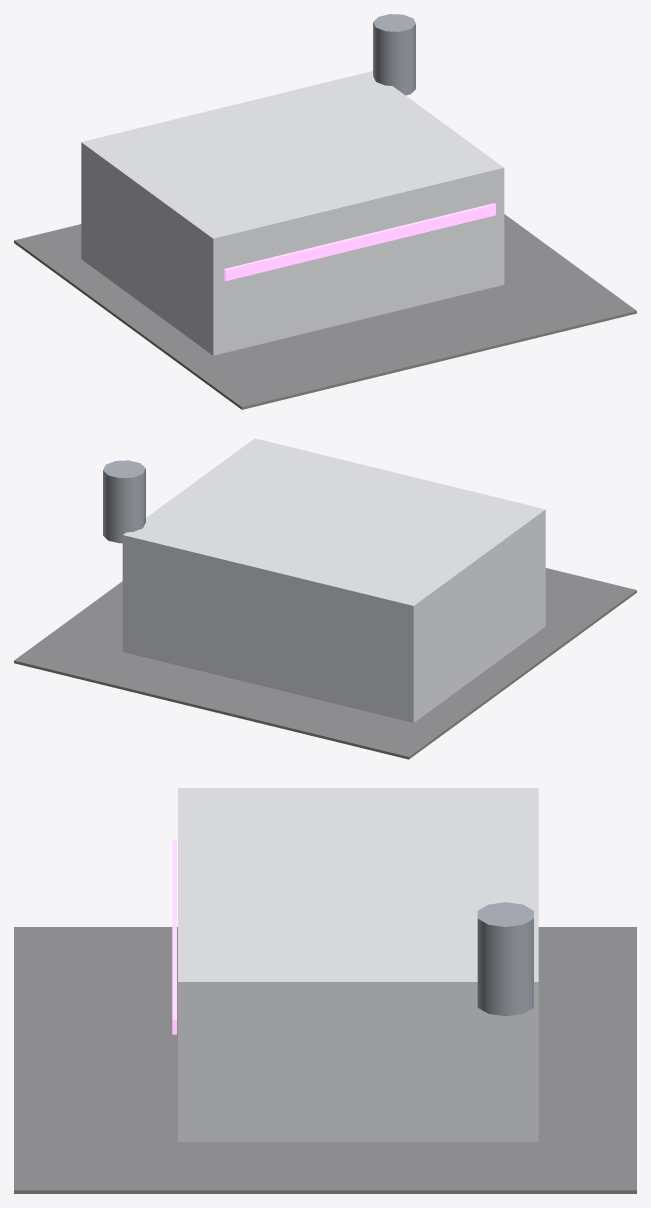
The model's file is nano_fab.glb.
3 views of the same model, one above another, from view 1: azimuth 30°, elevation 25°; view 2: azimuth 150°, elevation 25°; view 3: azimuth 270°, elevation 25° (orthographic). The views are drawn at different scales.
Parts seen in each view (by area): view 1: Clean, Pad, Band, Vent; view 2: Clean, Pad, Vent; view 3: Clean, Pad, Vent, Band.
Part boxes in pixels (x1=…): Clean: x1=81, y1=71, x2=504, y2=355; Pad: x1=14, y1=214, x2=636, y2=409; Band: x1=224, y1=203, x2=495, y2=280; Vent: x1=373, y1=14, x2=415, y2=95; Clean: x1=122, y1=438, x2=545, y2=722; Pad: x1=14, y1=568, x2=636, y2=759; Vent: x1=103, y1=460, x2=145, y2=543; Clean: x1=178, y1=788, x2=538, y2=1141; Pad: x1=14, y1=927, x2=636, y2=1193; Vent: x1=477, y1=902, x2=533, y2=1016; Band: x1=172, y1=839, x2=176, y2=1034.
Size of the model in its own units: 3.8 by 1.6 by 3.8.
